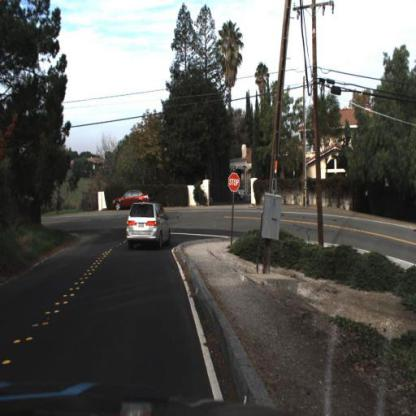car: (129, 204, 174, 247), (113, 192, 151, 210)
